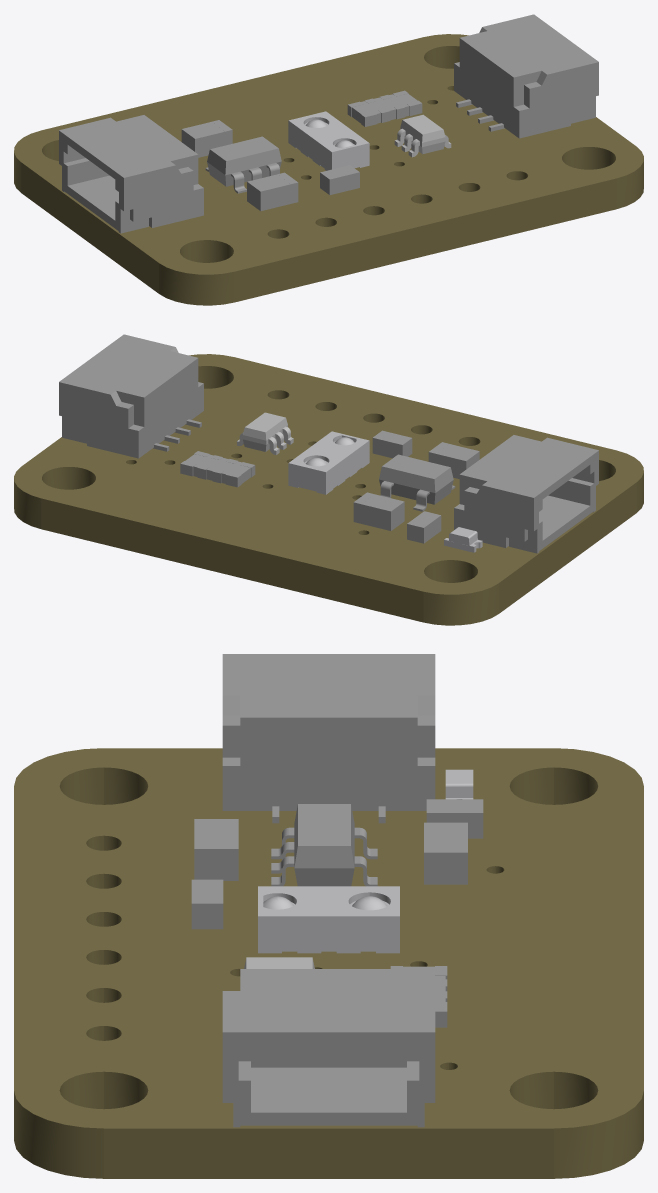
Rendered from ada-4161.glb.
The picture shows the model from 3 angles, top to bottom: view 1: azimuth 30°, elevation 25°; view 2: azimuth 150°, elevation 25°; view 3: azimuth 270°, elevation 25°; orthographic projection. The views are drawn at different scales.
Visible parts, largest first — view 1: 0.16666666666666666_0.16666666666666666_0.08333333333333333_, 0.3333333333333333_0.3333333333333333_0.3333333333333333_0, 0.5833333333333334_0.5833333333333334_0.5833333333333334_0.8, 0.5_0.5_0.5_0.85; view 2: 0.16666666666666666_0.16666666666666666_0.08333333333333333_, 0.3333333333333333_0.3333333333333333_0.3333333333333333_0, 0.5833333333333334_0.5833333333333334_0.5833333333333334_0.8, 0.5_0.5_0.5_0.85; view 3: 0.16666666666666666_0.16666666666666666_0.08333333333333333_, 0.3333333333333333_0.3333333333333333_0.3333333333333333_0, 0.5833333333333334_0.5833333333333334_0.5833333333333334_0.8, 0.5_0.5_0.5_0.85.
Boxes of the visible parts, x1,y1,x2,y2 form: 0.16666666666666666_0.16666666666666666_0.08333333333333333_: [14, 34, 643, 305]; 0.3333333333333333_0.3333333333333333_0.3333333333333333_0: [59, 14, 598, 233]; 0.5833333333333334_0.5833333333333334_0.5833333333333334_0.8: [288, 111, 369, 170]; 0.5_0.5_0.5_0.85: [394, 114, 451, 157]; 0.16666666666666666_0.16666666666666666_0.08333333333333333_: [14, 354, 643, 625]; 0.3333333333333333_0.3333333333333333_0.3333333333333333_0: [59, 334, 598, 553]; 0.5833333333333334_0.5833333333333334_0.5833333333333334_0.8: [288, 431, 482, 552]; 0.5_0.5_0.5_0.85: [237, 412, 293, 455]; 0.16666666666666666_0.16666666666666666_0.08333333333333333_: [14, 748, 643, 1178]; 0.3333333333333333_0.3333333333333333_0.3333333333333333_0: [191, 654, 483, 1127]; 0.5833333333333334_0.5833333333333334_0.5833333333333334_0.8: [258, 769, 473, 953]; 0.5_0.5_0.5_0.85: [244, 957, 314, 968].
Bounding box in the file's own units: 2.54 × 0.4529 × 1.78.
